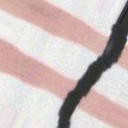crackTip: (56, 1, 127, 128)
